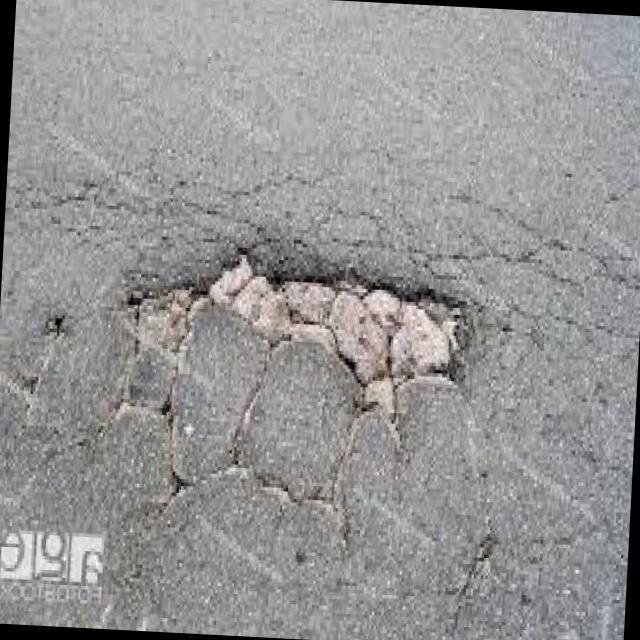pothole: (209, 262, 455, 420)
